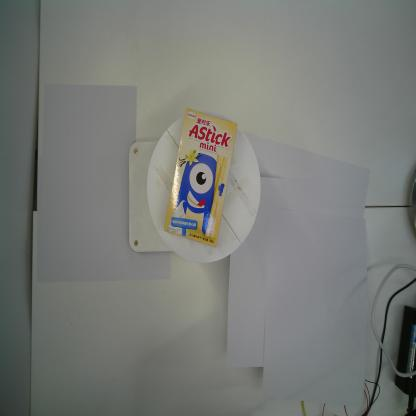Dessert: (162, 106, 239, 250)
